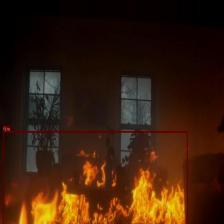fire: (3, 131, 188, 224)
